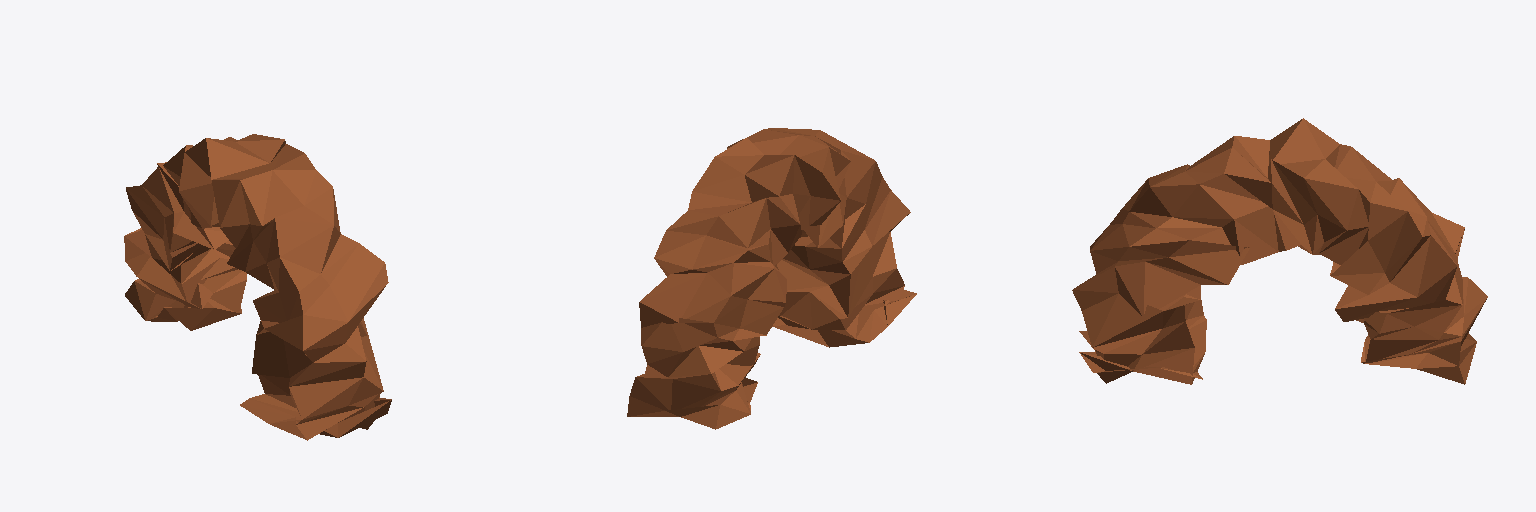
File: hole.obj
3 views of the same model, side by side, from view 1: azimuth 30°, elevation 25°; view 2: azimuth 150°, elevation 25°; view 3: azimuth 270°, elevation 25° (orthographic).
Visible parts, largest first — view 1: Plane; view 2: Plane; view 3: Plane.
Boxes of the visible parts, <box> form: Plane: <box>124,134,391,440</box>; Plane: <box>627,128,916,429</box>; Plane: <box>1072,118,1487,384</box>.
Bounding box in the file's own units: 3.25 × 6.25 × 9.91.